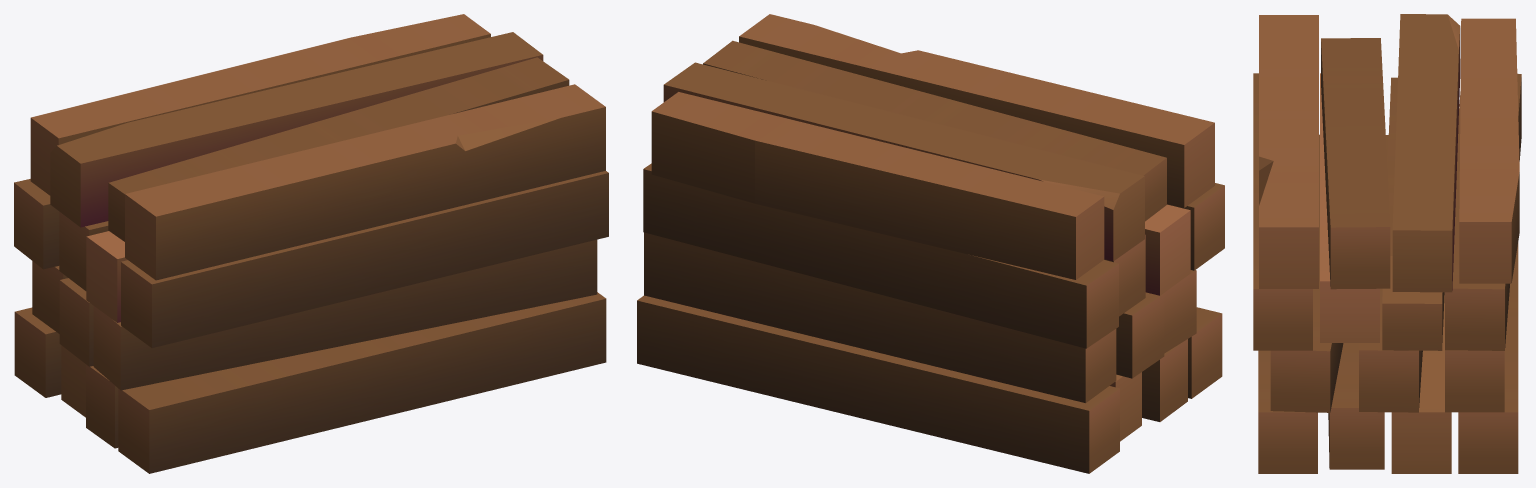
File: Wood_Stack_1A.fbx
3 views of the same model, side by side, from view 1: azimuth 30°, elevation 25°; view 2: azimuth 150°, elevation 25°; view 3: azimuth 270°, elevation 25° (orthographic). The views are drawn at different scales.
Parts seen in each view (by area): view 1: Wood_Stack_1A; view 2: Wood_Stack_1A; view 3: Wood_Stack_1A.
Boxes of the visible parts, x1=… form: Wood_Stack_1A: x1=14, y1=14, x2=608, y2=473; Wood_Stack_1A: x1=637, y1=14, x2=1224, y2=473; Wood_Stack_1A: x1=1253, y1=14, x2=1521, y2=473.
Size of the model in its own units: 191 by 100 by 98.66.
